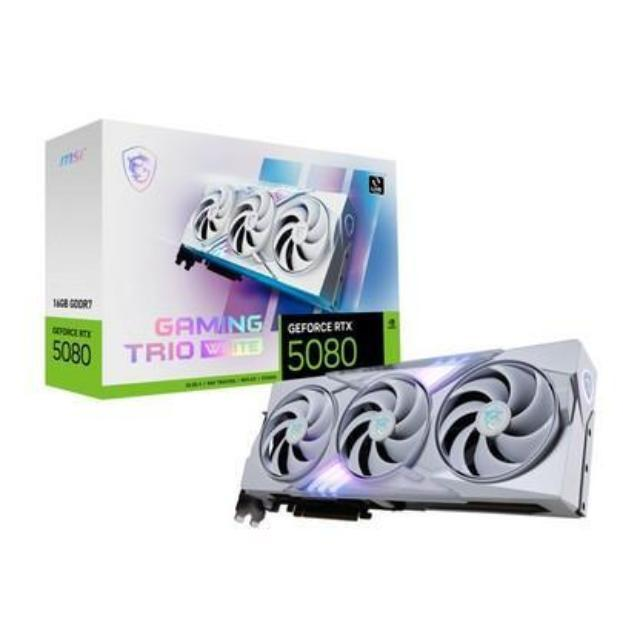GPU: (225, 334, 608, 543)
